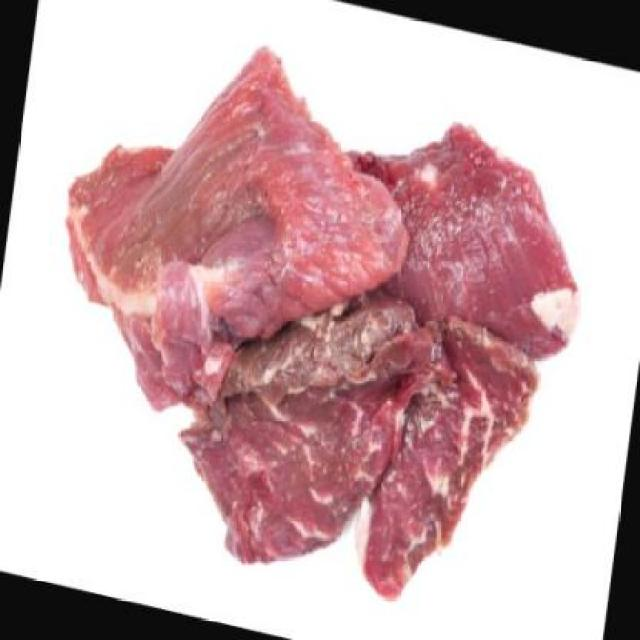beef: (45, 38, 604, 614)
